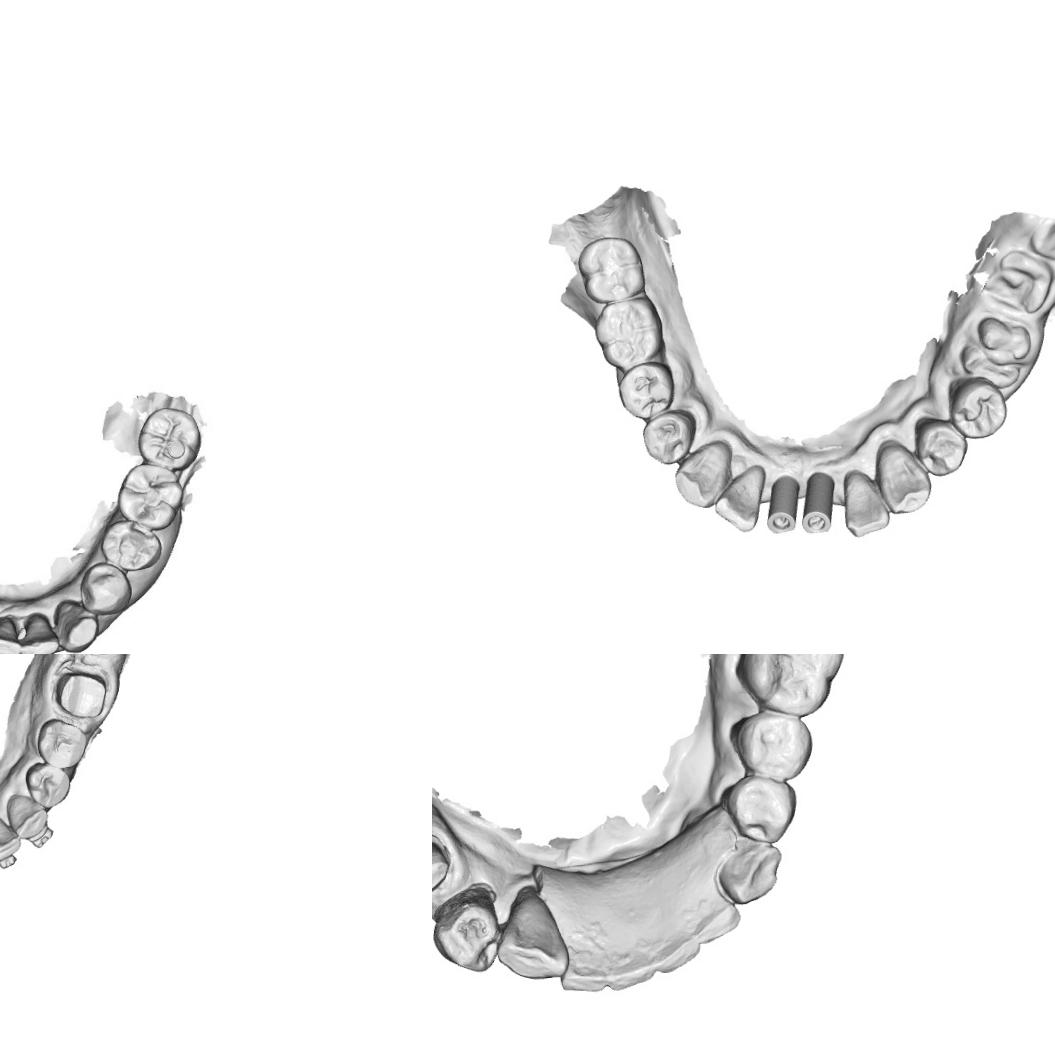canine: (492, 894, 572, 984), (715, 839, 780, 906), (671, 444, 736, 510), (878, 446, 932, 518), (54, 598, 100, 654), (4, 790, 50, 842)
crown: (53, 666, 109, 720), (432, 830, 451, 895)
implant: (798, 468, 836, 538), (766, 472, 803, 536)
incisor: (712, 463, 769, 534), (839, 468, 893, 538), (689, 898, 746, 946), (651, 933, 710, 979), (600, 951, 662, 994), (560, 957, 618, 999), (18, 612, 60, 654), (0, 810, 23, 863), (0, 615, 22, 654)
molar: (596, 296, 668, 372), (576, 233, 646, 306), (746, 654, 841, 707), (116, 461, 185, 532), (135, 406, 202, 472)
premolar: (432, 889, 501, 977), (738, 711, 816, 785), (732, 777, 795, 843), (947, 375, 1008, 440), (910, 411, 968, 479), (638, 405, 700, 466), (616, 360, 676, 422), (99, 518, 163, 573), (78, 560, 134, 617), (34, 716, 89, 770), (23, 760, 72, 808)
